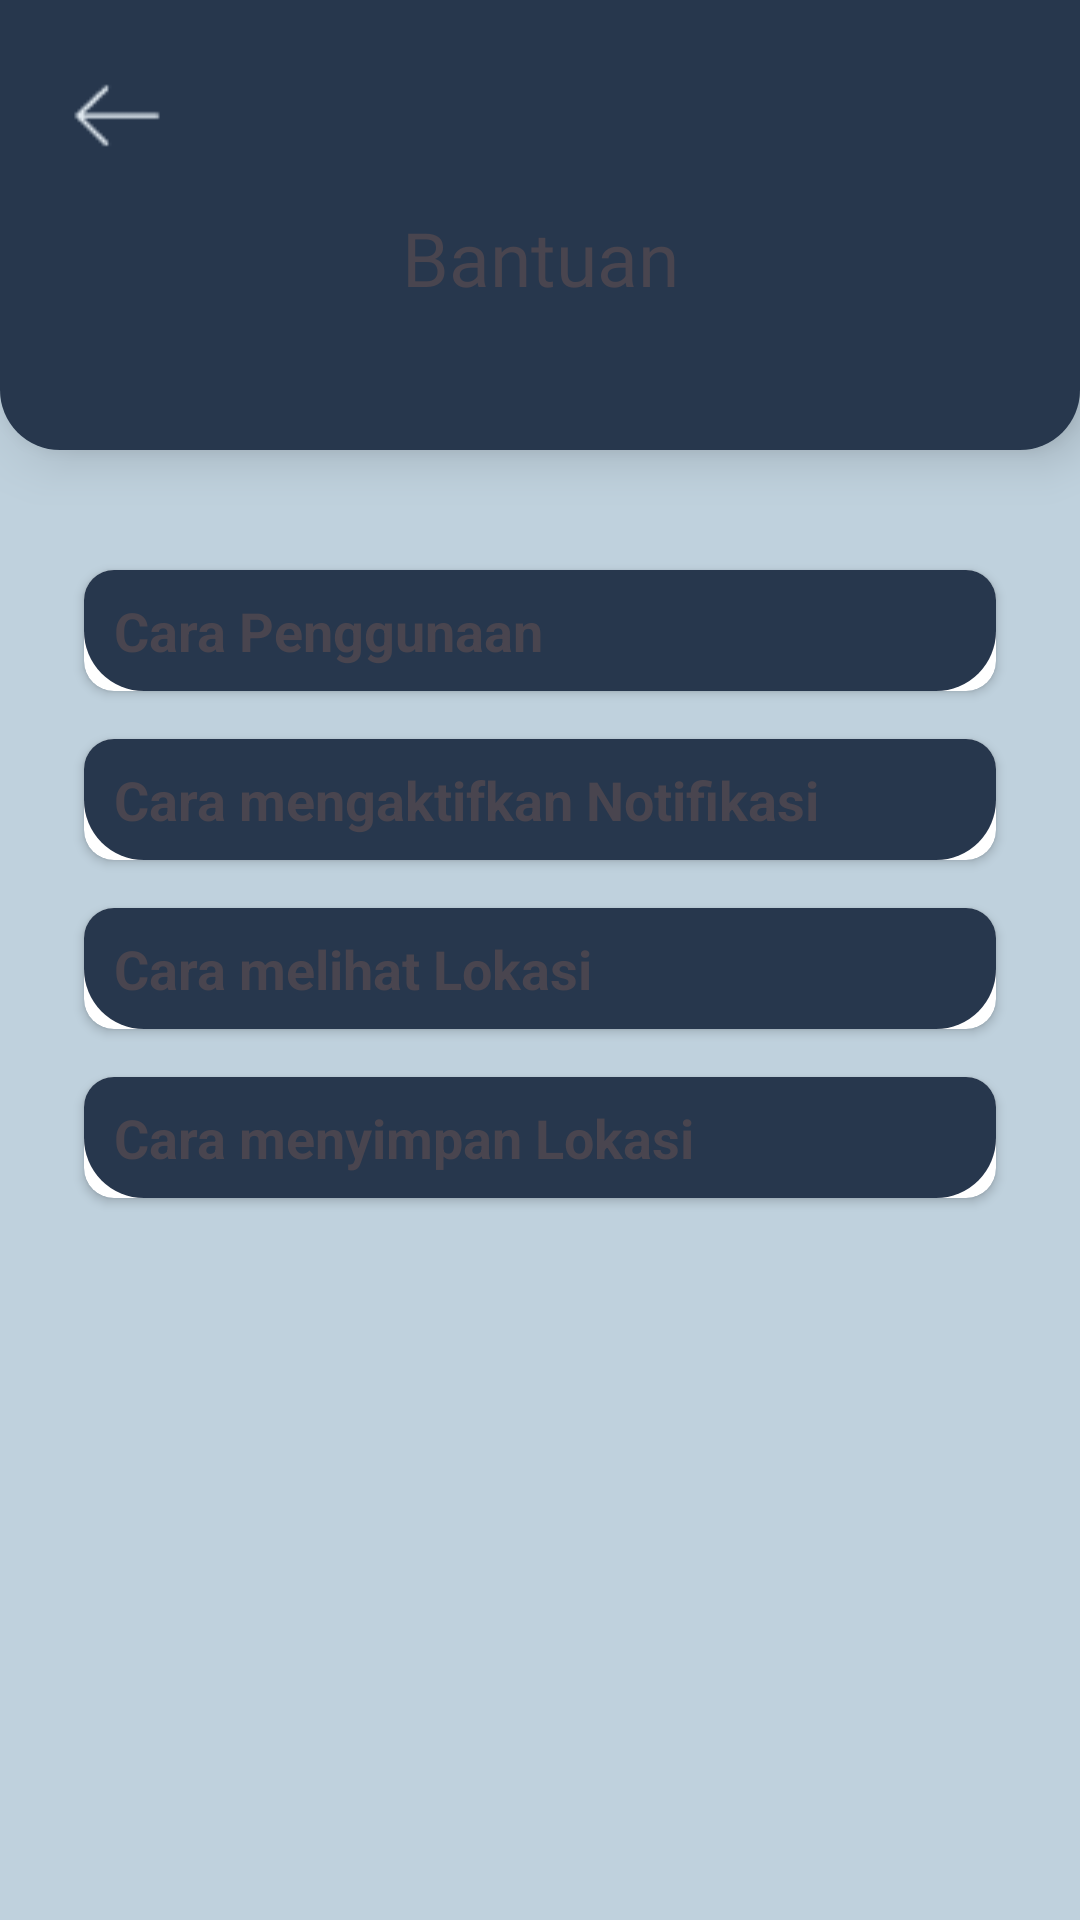

Icons on this 1080px x 1920px Android screen, each with its box as (x1, y1, x2, y2):
arrow: (74, 85, 160, 147)
